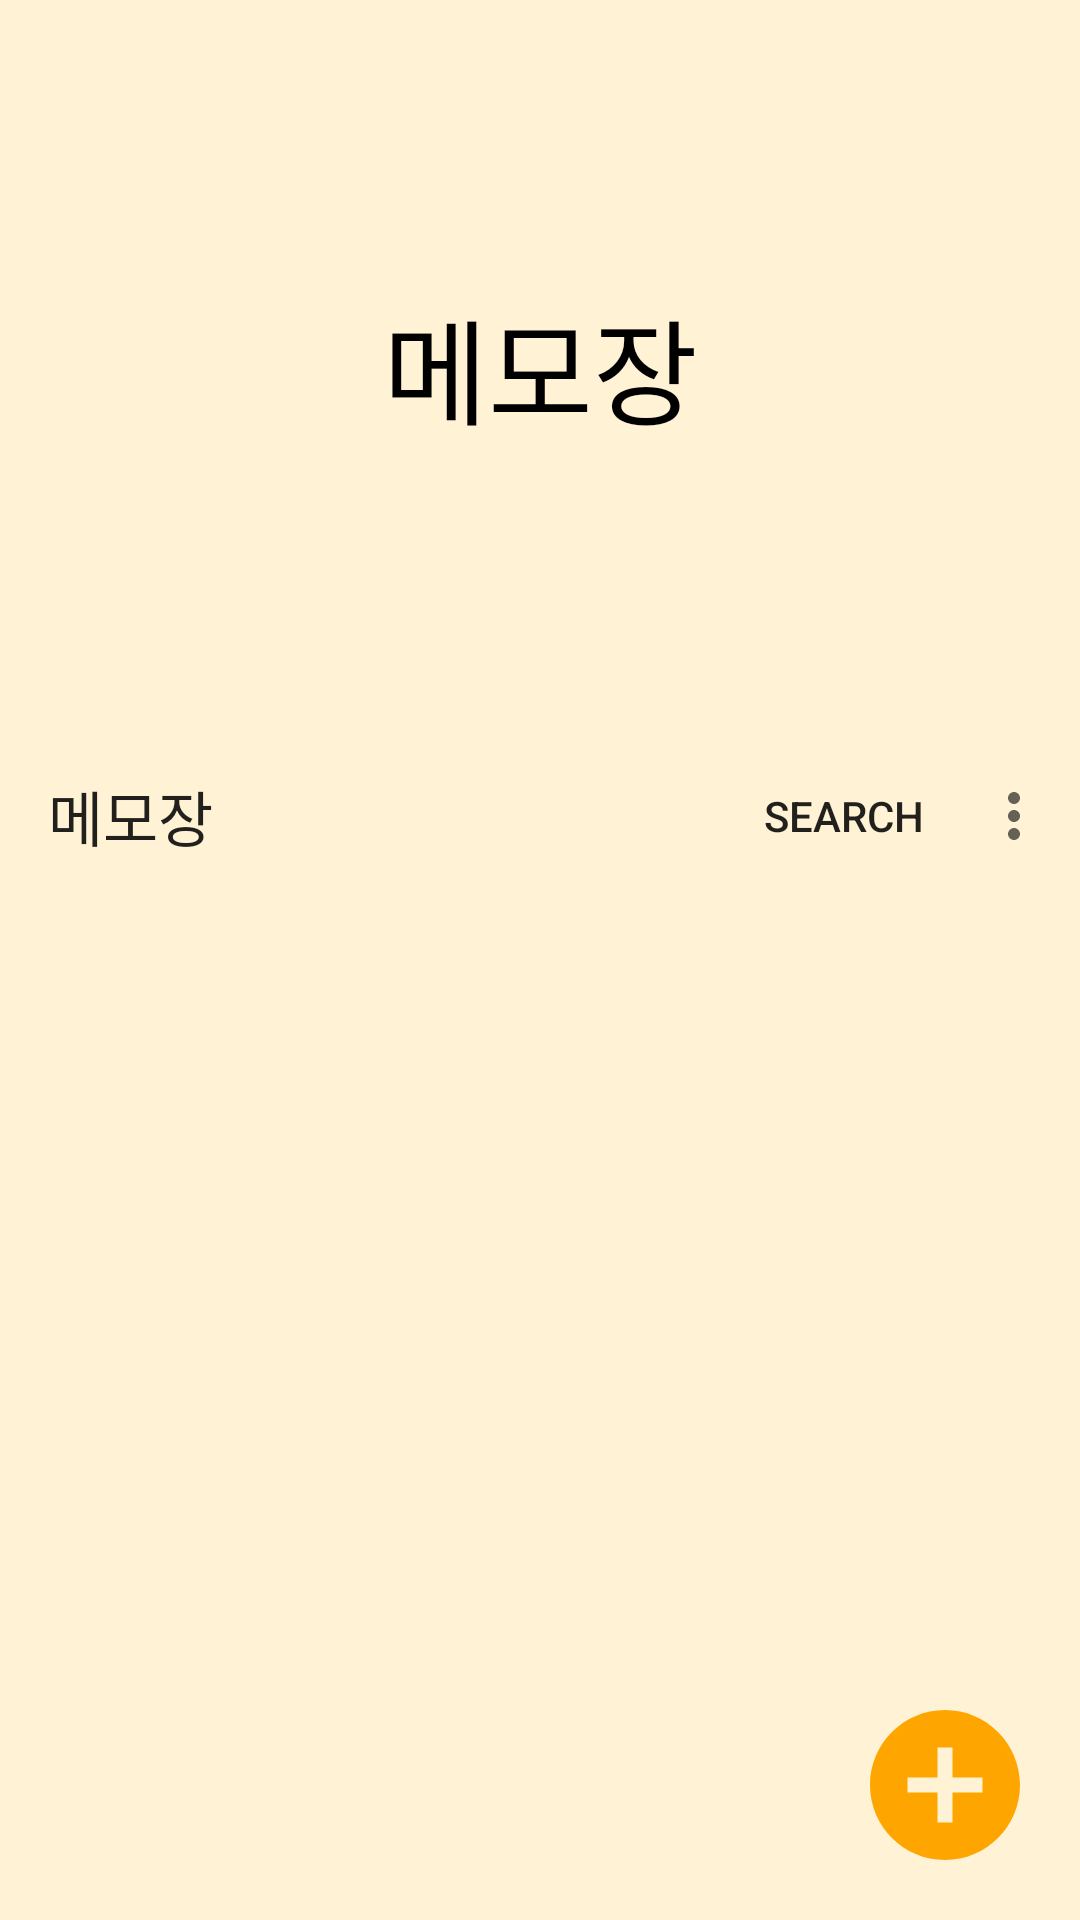

Where to tap for icons on this 1080×1920 app screen, as point (x, y):
add circle: point (945, 1785)
